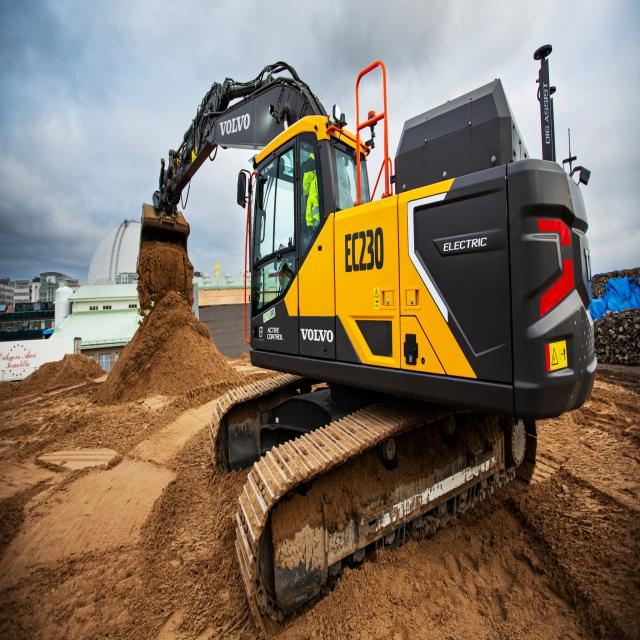excavator: (135, 43, 598, 634)
